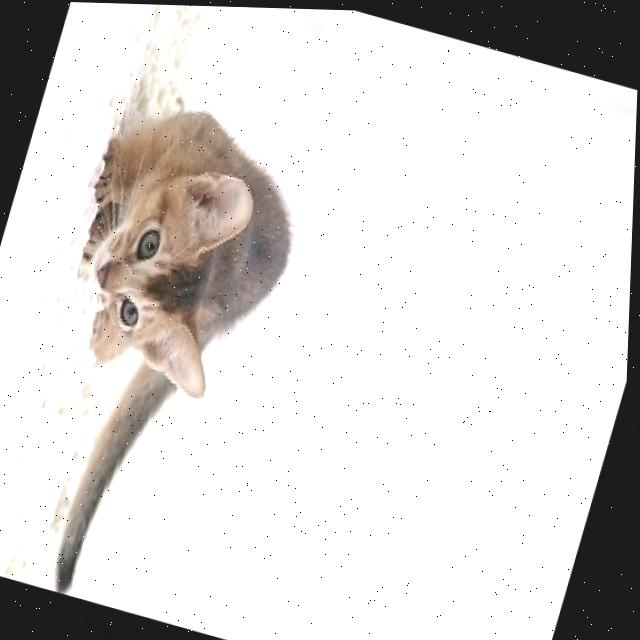Abyssinian: (0, 71, 335, 631)
